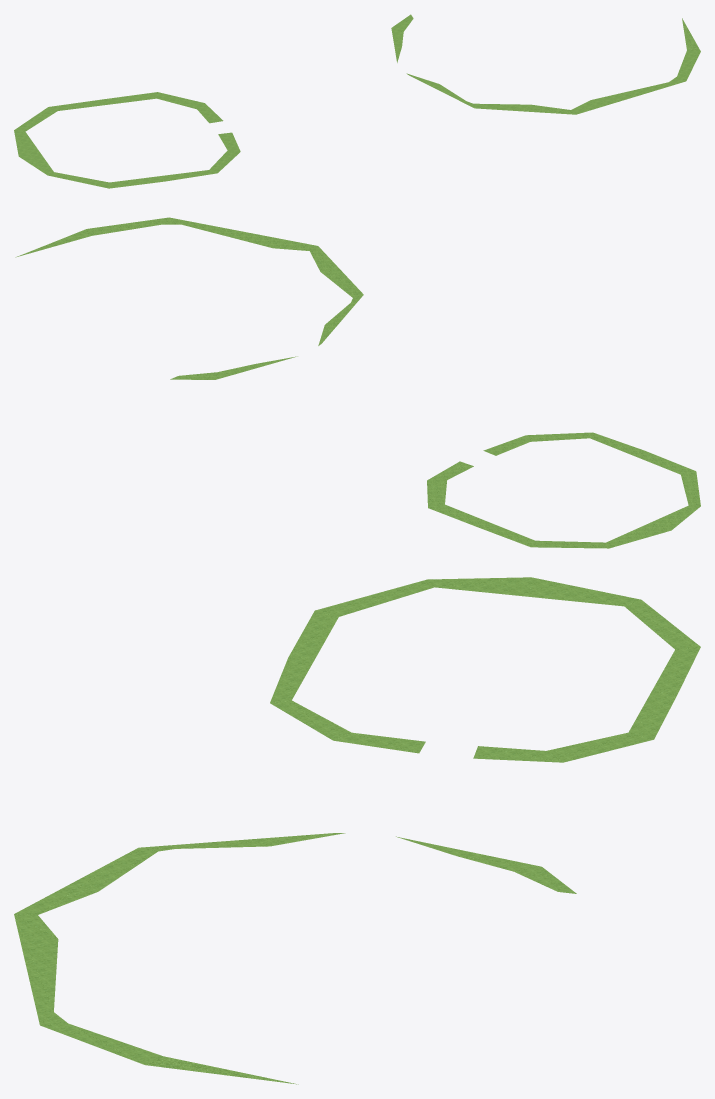
The model's file is kd_connection_world-inner_surface_0_5.glb.
The picture shows the model from 3 angles, top to bottom: view 1: azimuth 30°, elevation 25°; view 2: azimuth 150°, elevation 25°; view 3: azimuth 270°, elevation 25°; orthographic projection. The views are drawn at different scales.
Parts seen in each view (by area): view 1: kd_connection_world-inner_surface_0_5; view 2: kd_connection_world-inner_surface_0_5; view 3: kd_connection_world-inner_surface_0_5.
Boxes of the visible parts, x1,y1,x2,y2 form: kd_connection_world-inner_surface_0_5: (14,14,700,188); kd_connection_world-inner_surface_0_5: (15,217,700,548); kd_connection_world-inner_surface_0_5: (14,577,700,1084).
Bounding box in the file's own units: 248 × 13.74 × 125.
Materials: 1 (1 with a texture image).
